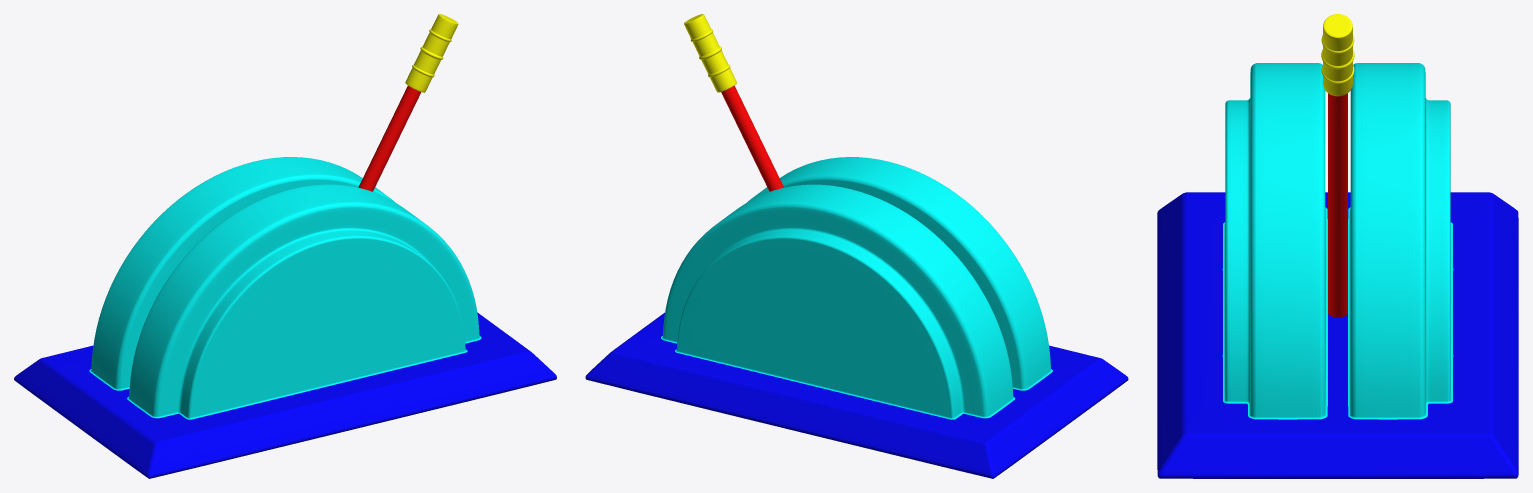
File: Lever.fbx
The picture shows the model from 3 angles, left to right: view 1: azimuth 30°, elevation 25°; view 2: azimuth 150°, elevation 25°; view 3: azimuth 270°, elevation 25°; orthographic projection. The views are drawn at different scales.
Parts seen in each view (by area): view 1: leverHolder2, leverBase, lever1; view 2: leverHolder2, leverBase, lever1; view 3: leverHolder2, leverBase, lever1.
Part boxes in pixels (box(x1,y1,x2,y2)): leverHolder2: box(89, 157, 481, 419); leverBase: box(14, 312, 556, 478); lever1: box(358, 14, 458, 191); leverHolder2: box(661, 157, 1052, 419); leverBase: box(585, 312, 1128, 478); lever1: box(684, 14, 783, 191); leverHolder2: box(1222, 63, 1453, 419); leverBase: box(1157, 192, 1518, 478); lever1: box(1321, 14, 1354, 317).
Size of the model in its own units: 251 by 191 by 144.
